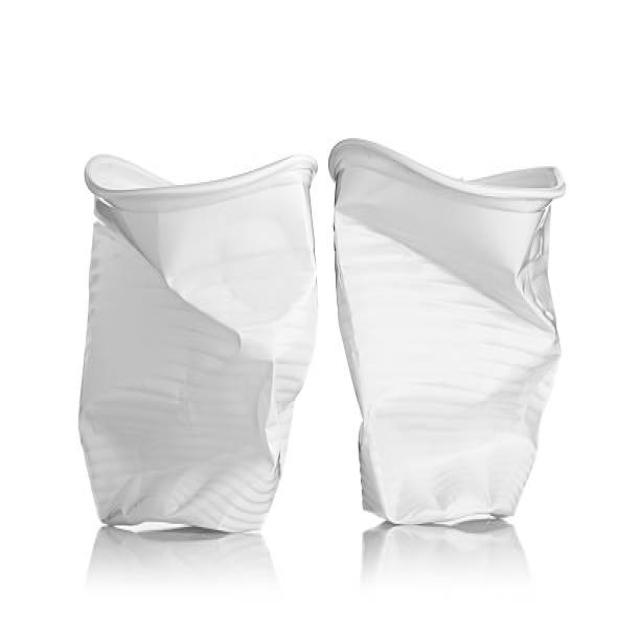plastic: (324, 140, 578, 535), (79, 149, 318, 540)
